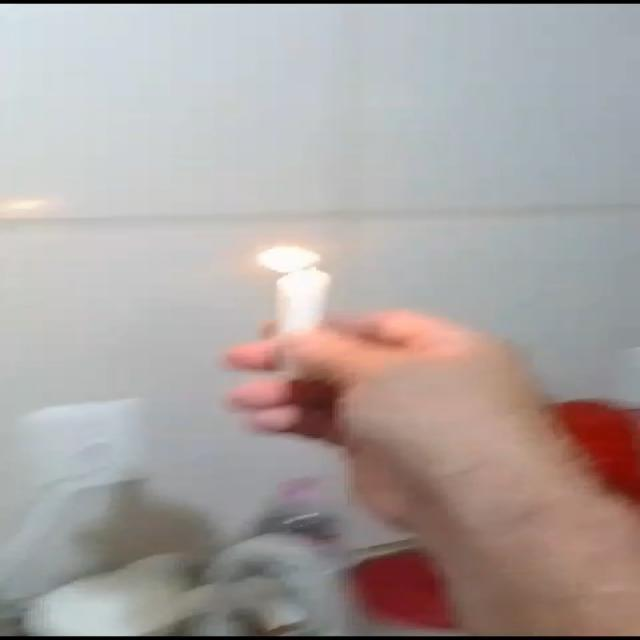fogo-ypXI: (250, 242, 321, 274)
